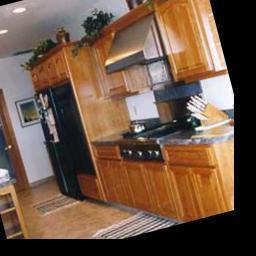Electrodomestico: (33, 88, 82, 202), (51, 85, 95, 179), (123, 131, 164, 171)
Puerta: (0, 91, 30, 194)
